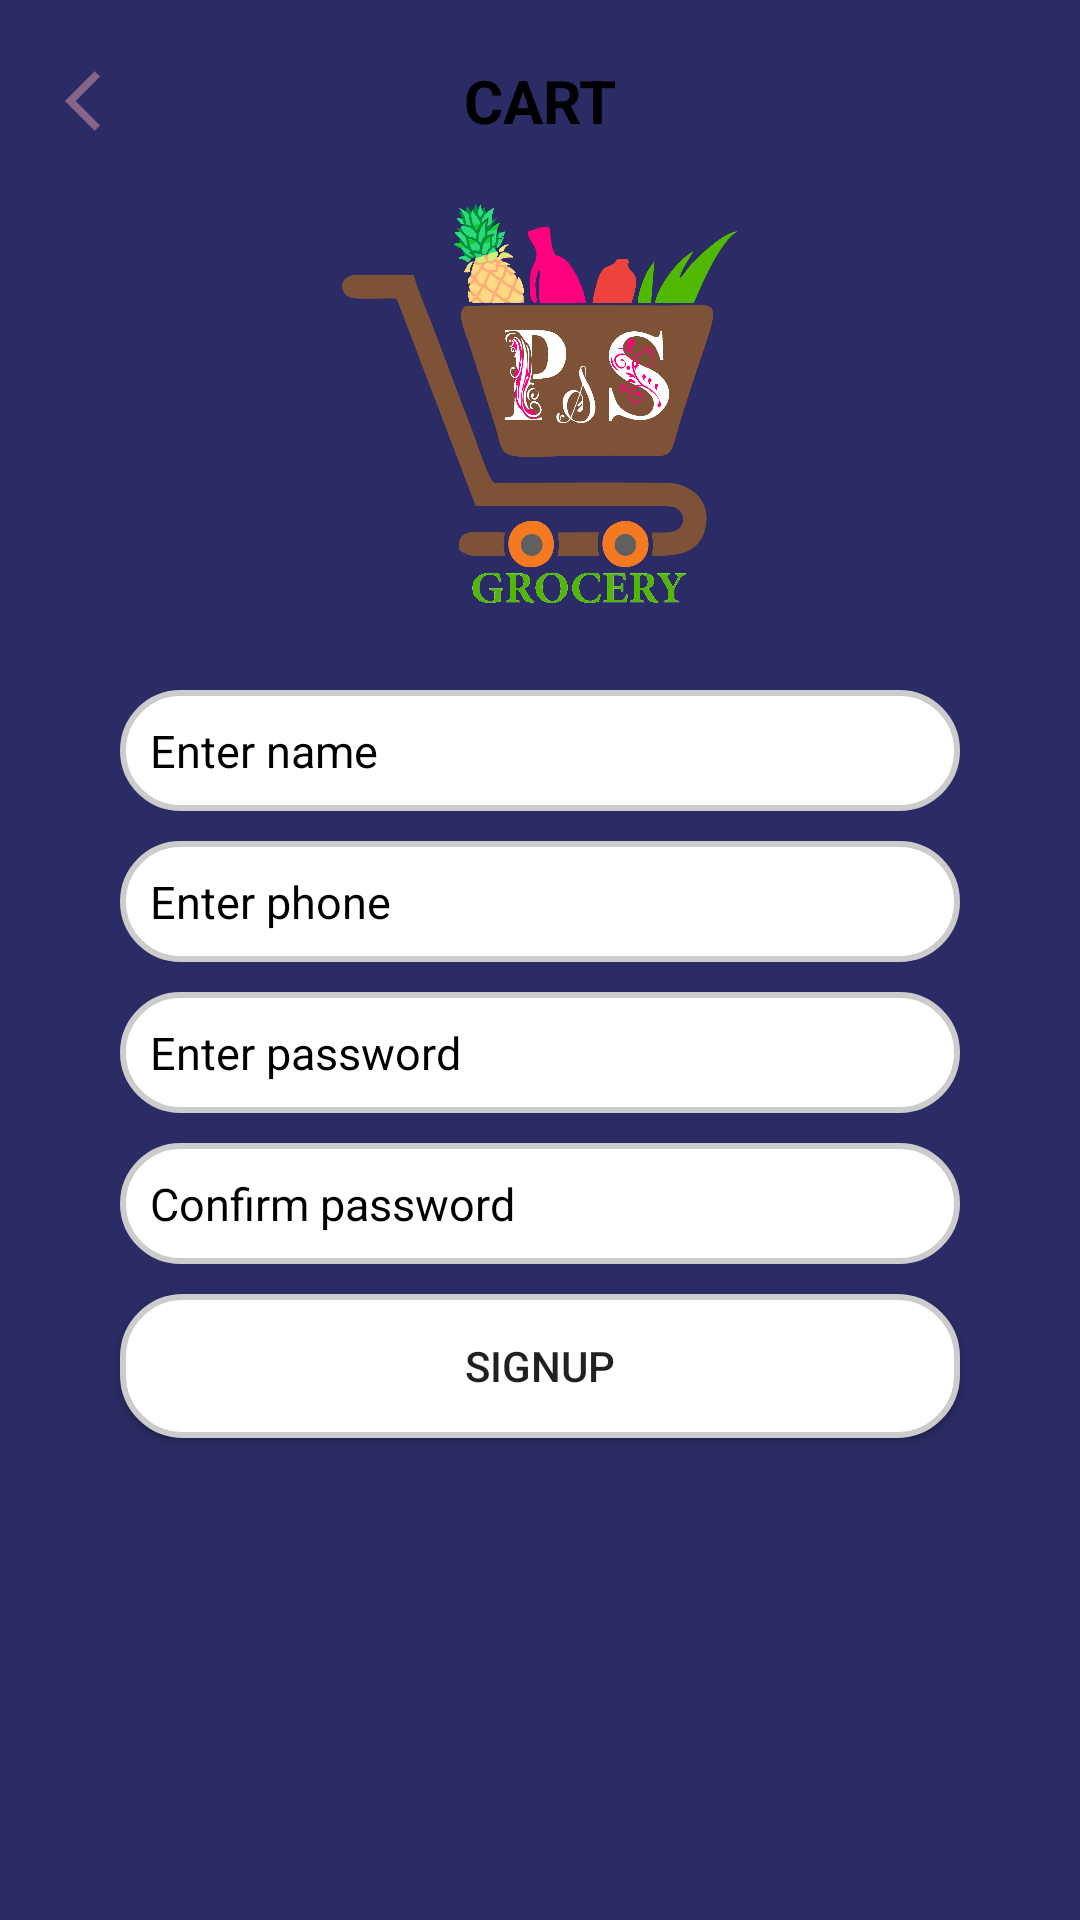

Where icons sit on this 1080w x 1920h app screen, as rect(x1, y1, x2, y2):
back: rect(65, 71, 100, 131)
